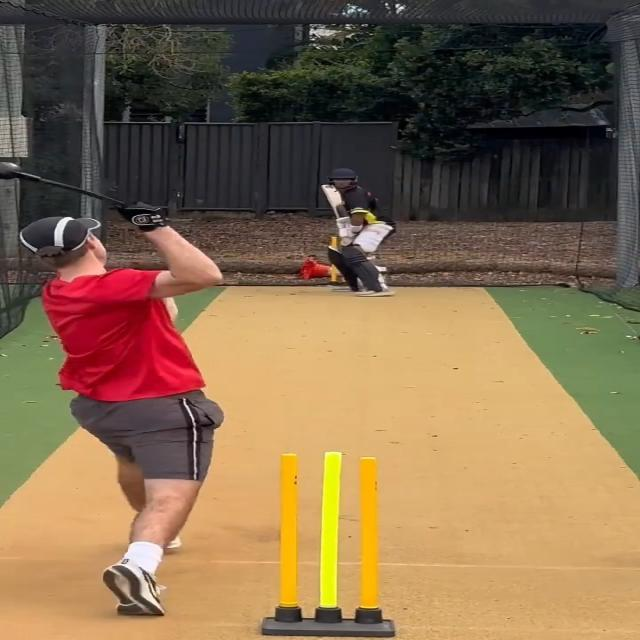stump: (259, 452, 397, 640)
